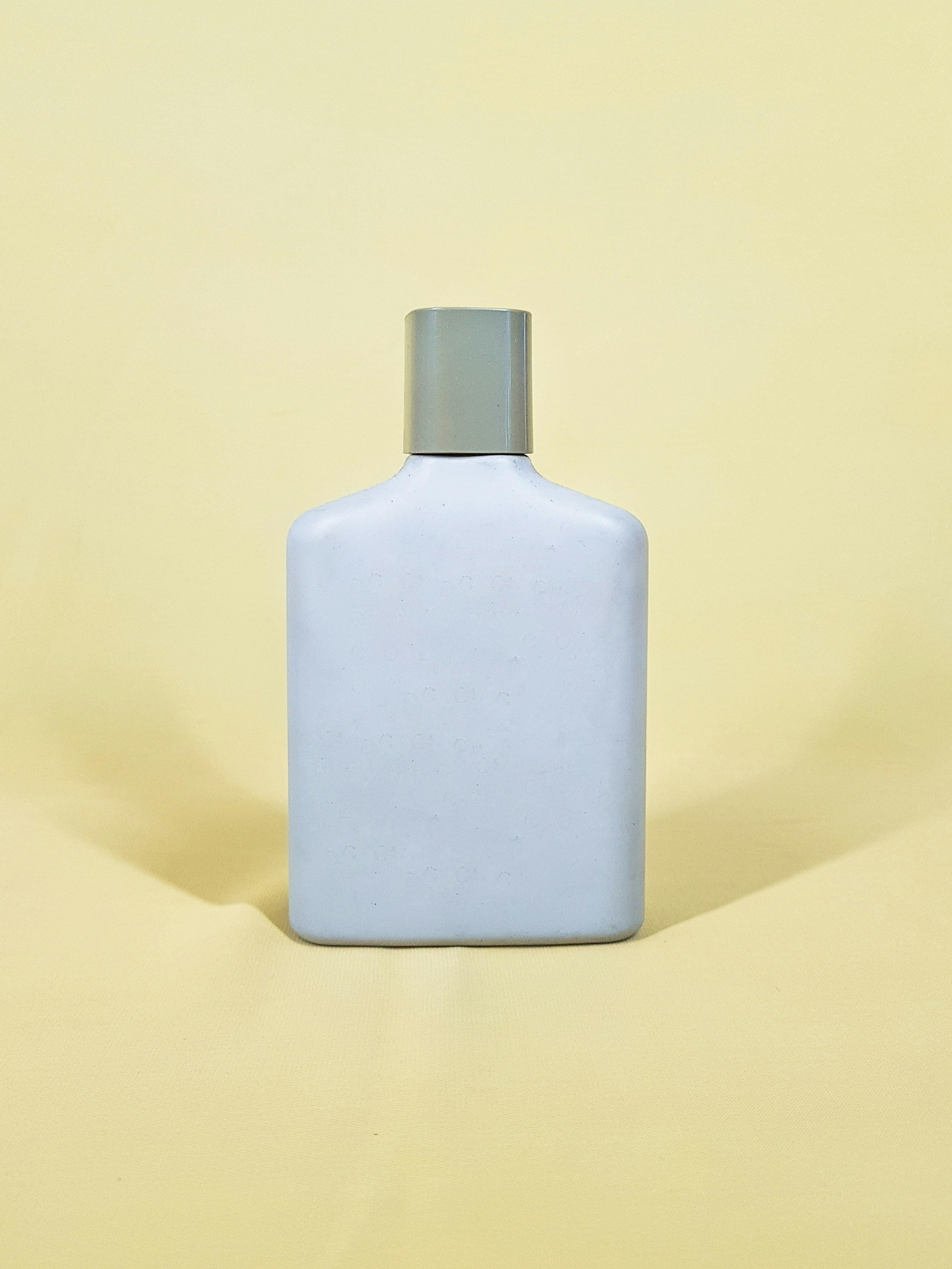Bottle-Detection: (236, 255, 706, 1012)
